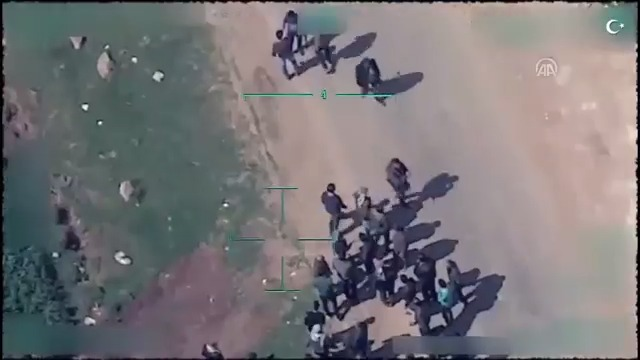insan: (268, 22, 305, 80), (354, 54, 390, 111), (383, 150, 415, 209), (317, 182, 350, 235)
